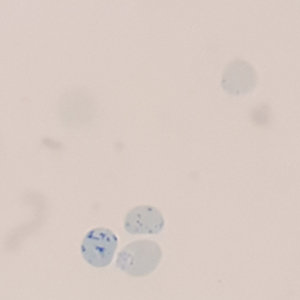aggregate reticulocyte: (78, 226, 120, 269)
erythrocyte: (115, 237, 165, 278)
punctate reticulocyte: (219, 58, 260, 97), (122, 204, 167, 237)
